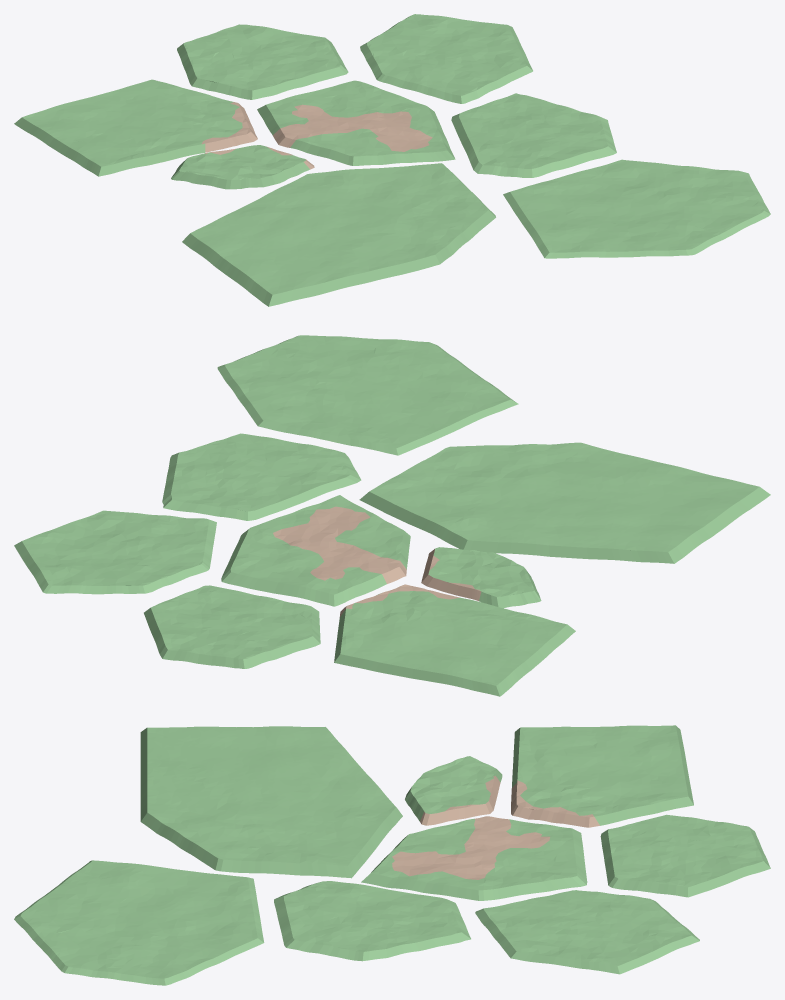
The model's file is grand.fbx.
3 views of the same model, one above another, from view 1: azimuth 30°, elevation 25°; view 2: azimuth 150°, elevation 25°; view 3: azimuth 270°, elevation 25° (orthographic). The views are drawn at different scales.
Visible parts, largest first — view 1: grand; view 2: grand; view 3: grand.
Part boxes in pixels (x1,y1,x2,y2): grand: (14,14,770,306); grand: (14,335,770,696); grand: (14,725,770,985).
Bounding box in the file's own units: 84.28 × 1.65 × 103.
